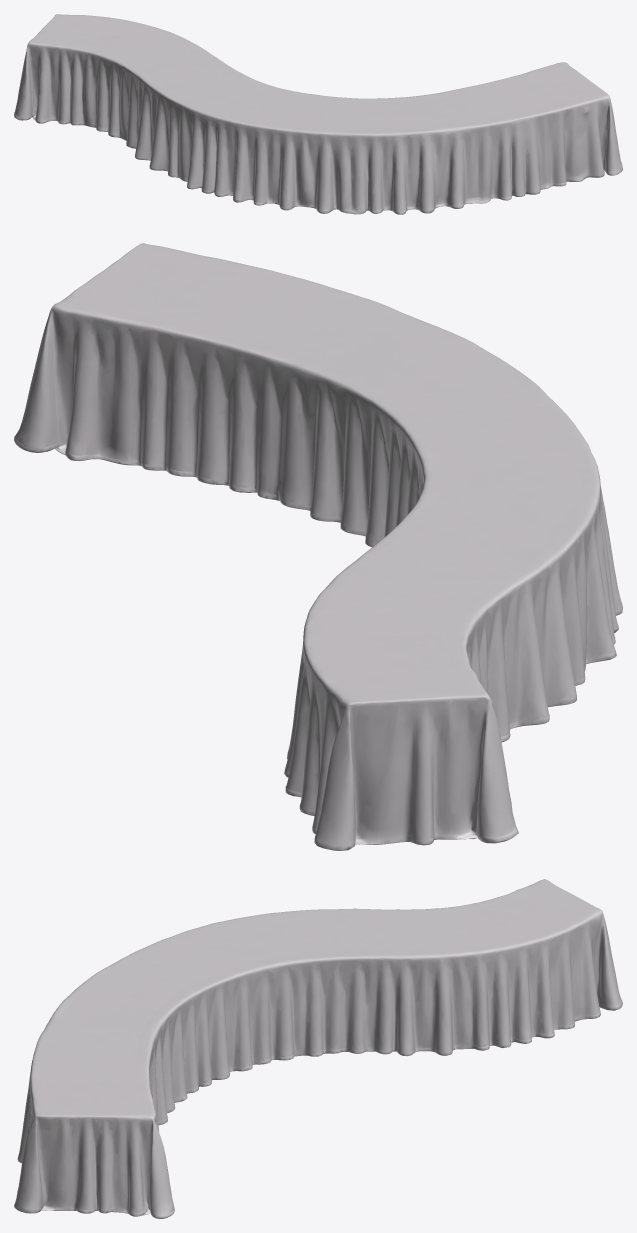
Rendered from table-serpentine.glb.
3 views of the same model, one above another, from view 1: azimuth 30°, elevation 25°; view 2: azimuth 150°, elevation 25°; view 3: azimuth 270°, elevation 25° (orthographic). The views are drawn at different scales.
Visible parts, largest first — view 1: tripo_node_e6f3ce0d-f3cc-4c5b-9d71-c1c6f3bd4601; view 2: tripo_node_e6f3ce0d-f3cc-4c5b-9d71-c1c6f3bd4601; view 3: tripo_node_e6f3ce0d-f3cc-4c5b-9d71-c1c6f3bd4601.
Part boxes in pixels (x1=…): tripo_node_e6f3ce0d-f3cc-4c5b-9d71-c1c6f3bd4601: x1=14, y1=14, x2=622, y2=214; tripo_node_e6f3ce0d-f3cc-4c5b-9d71-c1c6f3bd4601: x1=14, y1=243, x2=622, y2=850; tripo_node_e6f3ce0d-f3cc-4c5b-9d71-c1c6f3bd4601: x1=14, y1=879, x2=622, y2=1218.
Size of the model in its own units: 4.22 by 0.75 by 4.22.
1 material, 1 textured.
